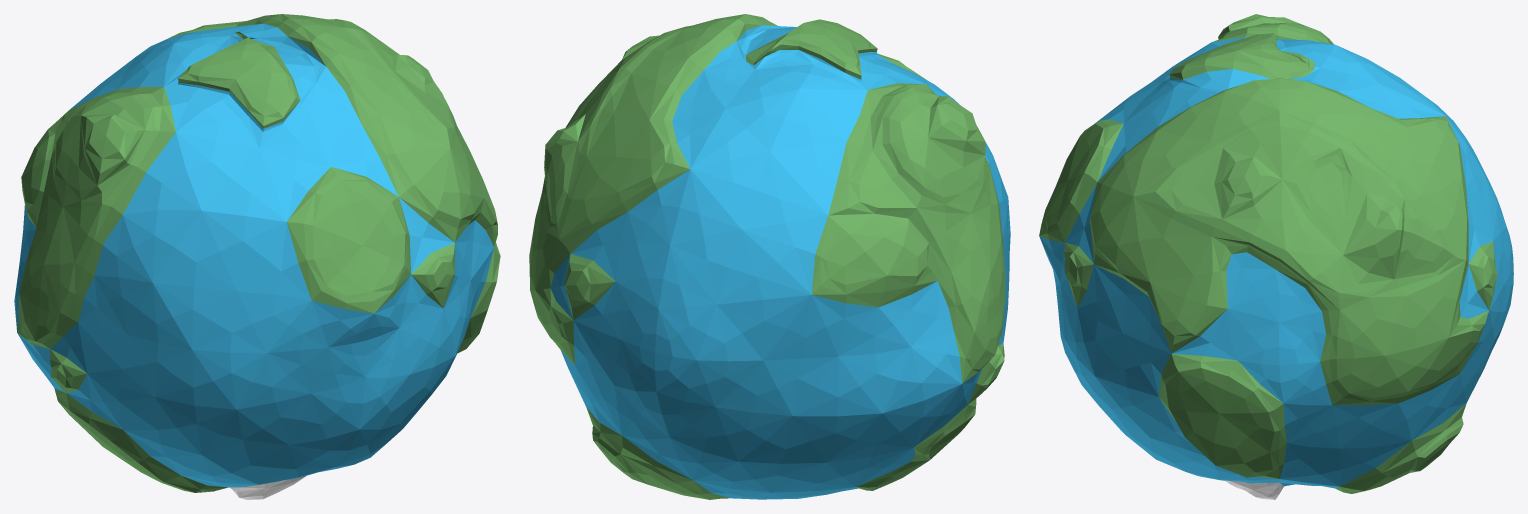
The model's file is EarthBody.fbx.
3 renders of one model, left to right at view 1: azimuth 30°, elevation 25°; view 2: azimuth 150°, elevation 25°; view 3: azimuth 270°, elevation 25°, orthographic. The views are drawn at different scales.
Parts seen in each view (by area): view 1: EarthBody; view 2: EarthBody; view 3: EarthBody.
Part boxes in pixels (x1,y1,x2,y2): EarthBody: (14, 14, 500, 499); EarthBody: (529, 14, 1010, 499); EarthBody: (1039, 14, 1513, 499).
Size of the model in its own units: 20816 by 20943 by 20568.
